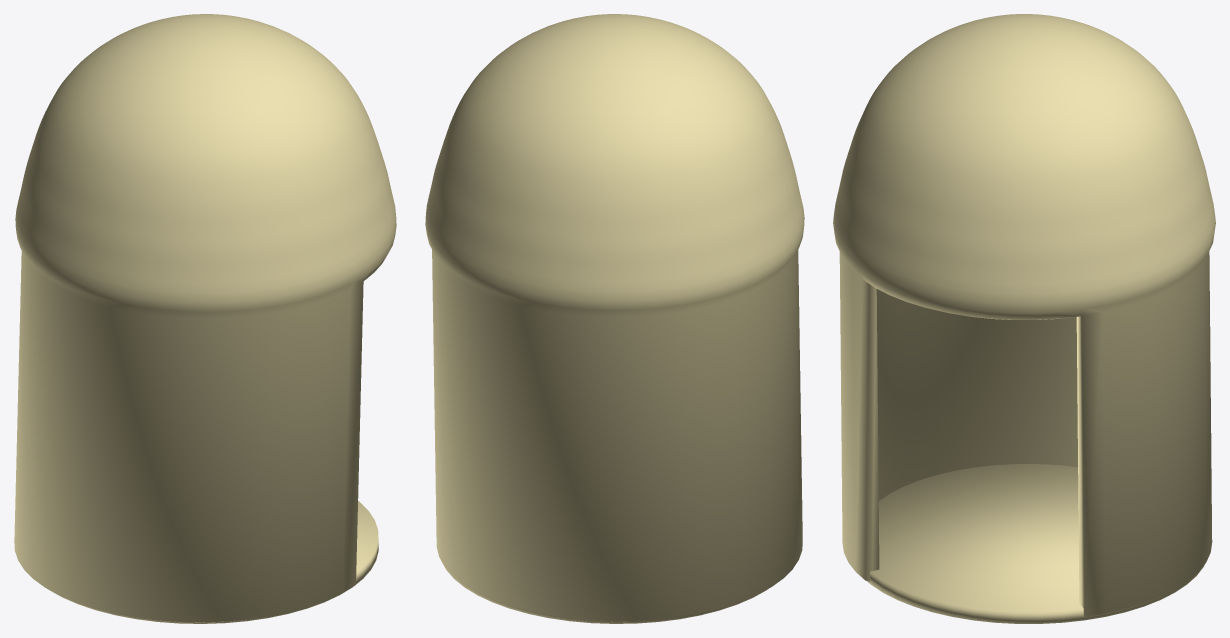
3 renders of one model, left to right at view 1: azimuth 30°, elevation 25°; view 2: azimuth 150°, elevation 25°; view 3: azimuth 270°, elevation 25°, orthographic.
Parts seen in each view (by area): view 1: Sphere; view 2: Sphere; view 3: Sphere.
Boxes of the visible parts, <box> form: Sphere: <box>14,14,396,623</box>; Sphere: <box>425,14,804,623</box>; Sphere: <box>833,14,1215,623</box>.
Bounding box in the file's own units: 223 × 333 × 223.
